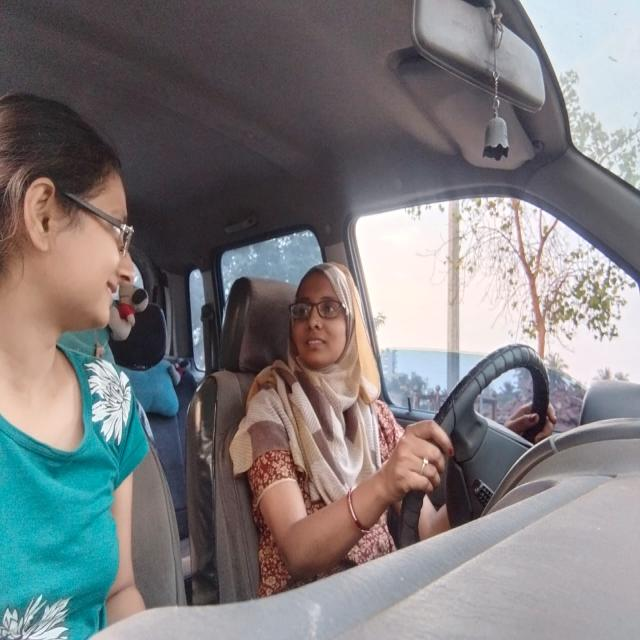LeftRight: (288, 257, 368, 378)
person: (0, 84, 138, 344)
talking: (100, 273, 121, 312), (306, 335, 329, 353)
